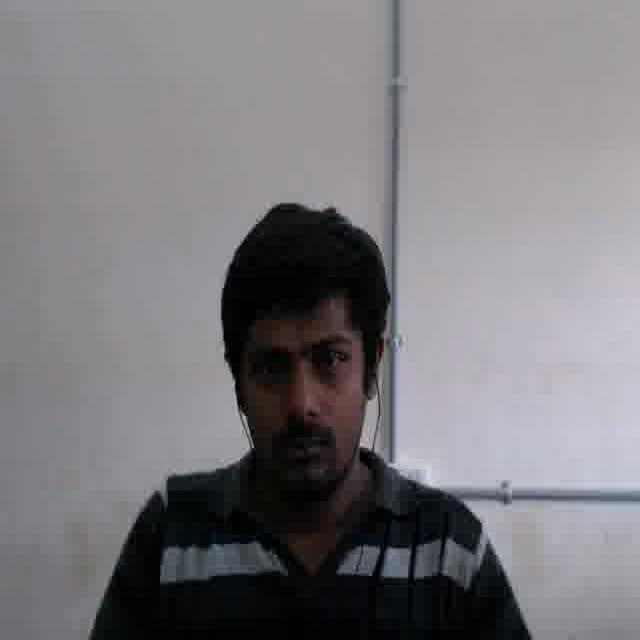Engaged: (239, 298, 361, 494)
